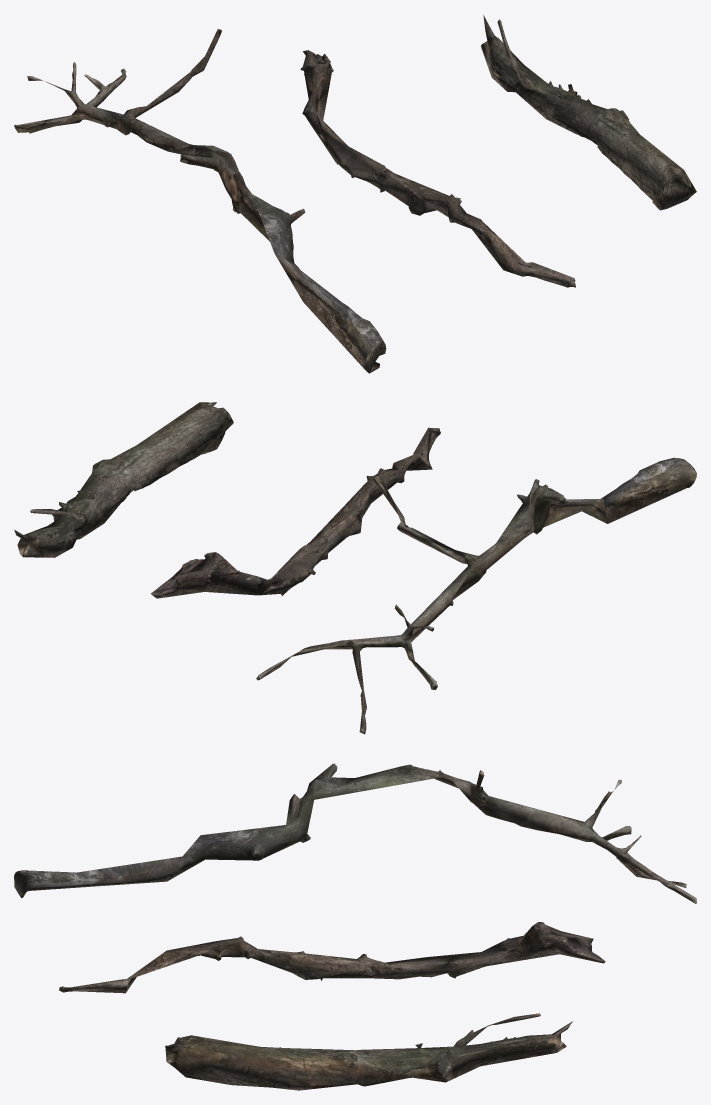
Rendered from dry_branches_medium_01.glb.
3 views of the same model, one above another, from view 1: azimuth 30°, elevation 25°; view 2: azimuth 150°, elevation 25°; view 3: azimuth 270°, elevation 25° (orthographic). The views are drawn at different scales.
Visible parts, largest first — view 1: dry_branches_medium_01_a, dry_branches_medium_01_c, dry_branches_medium_01_b; view 2: dry_branches_medium_01_a, dry_branches_medium_01_c, dry_branches_medium_01_b; view 3: dry_branches_medium_01_a, dry_branches_medium_01_c, dry_branches_medium_01_b.
Boxes of the visible parts, x1,y1,x2,y2 form: dry_branches_medium_01_a: (14,29,386,373); dry_branches_medium_01_c: (480,15,696,210); dry_branches_medium_01_b: (300,50,575,287); dry_branches_medium_01_a: (256,457,696,734); dry_branches_medium_01_c: (14,402,233,557); dry_branches_medium_01_b: (151,427,440,598); dry_branches_medium_01_a: (14,763,696,903); dry_branches_medium_01_c: (165,1013,572,1090); dry_branches_medium_01_b: (59,922,605,993).
Size of the model in its own units: 1.05 by 0.3401 by 1.3.
1 material, 1 textured.
